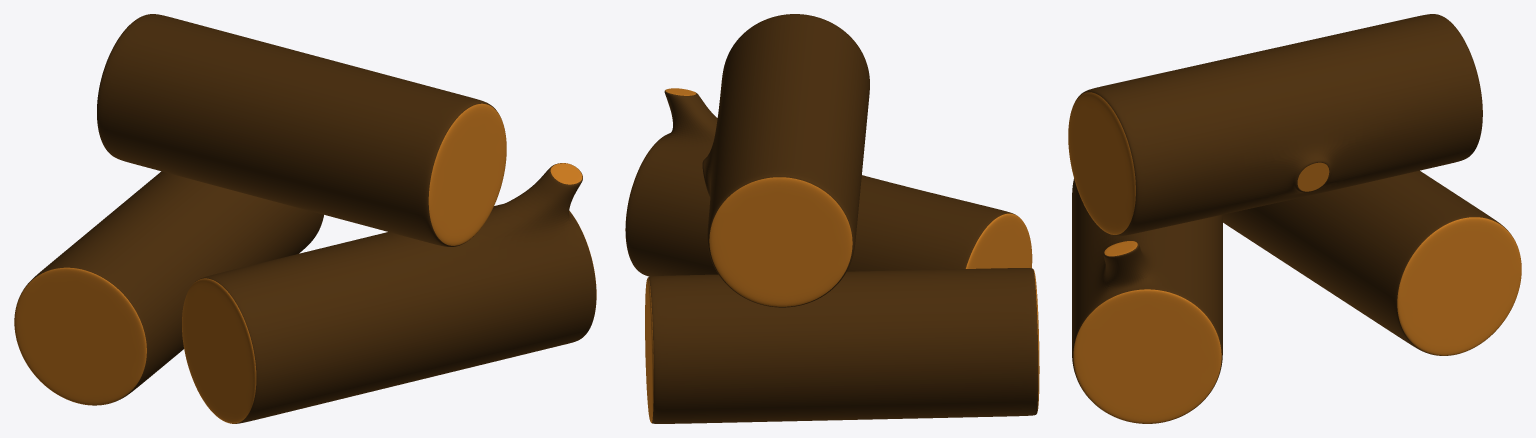
File: woodlogs.fbx
3 renders of one model, left to right at view 1: azimuth 30°, elevation 25°; view 2: azimuth 150°, elevation 25°; view 3: azimuth 270°, elevation 25°, orthographic.
Parts seen in each view (by area): view 1: Cylinder.001; view 2: Cylinder.001; view 3: Cylinder.001.
Boxes of the visible parts, x1,y1,x2,y2 form: Cylinder.001: (14,14,596,423); Cylinder.001: (625,14,1039,423); Cylinder.001: (1068,14,1521,423).
Size of the model in its own units: 68.85 by 38.3 by 57.41.
